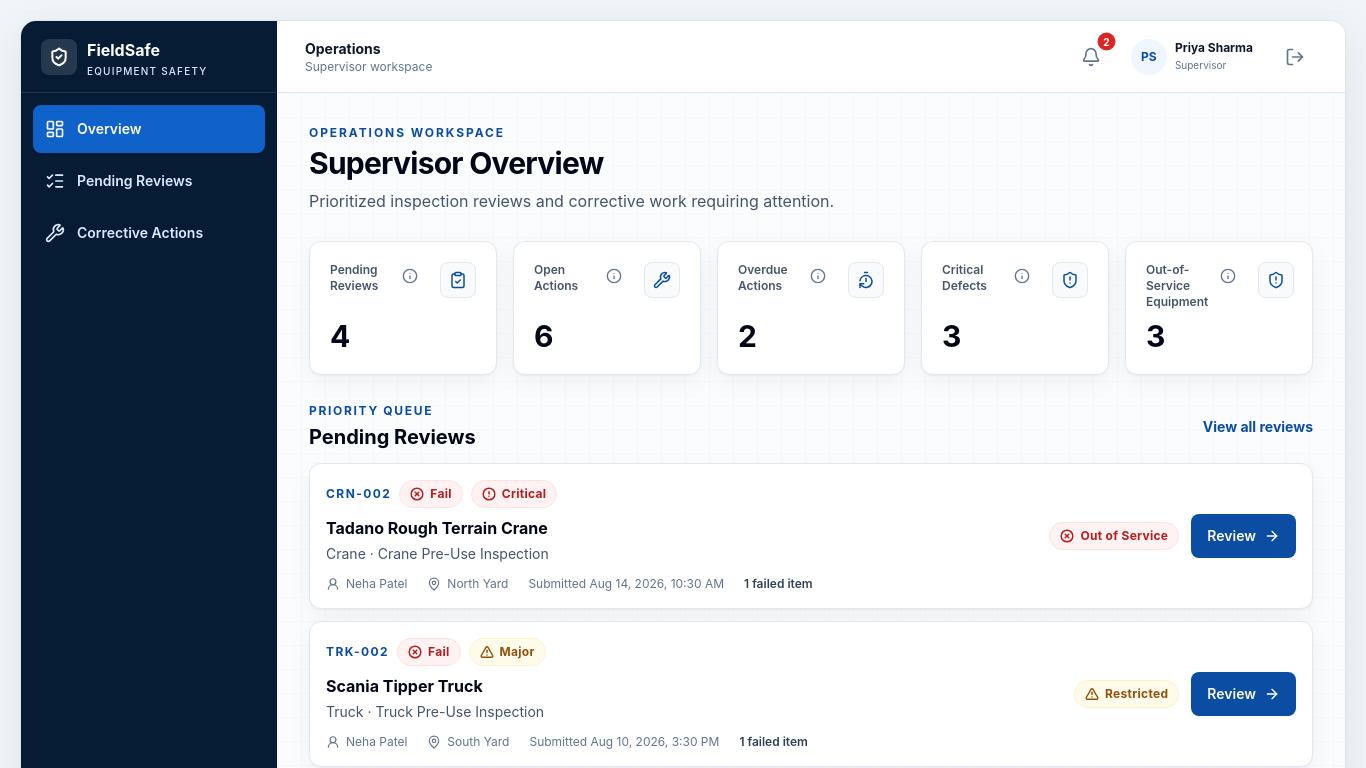
Test case: TASK-031 Supervisor actionable notifications › renders a bounded newest-first Supervisor notification center
The image size is (1366, 768).
Click the button named "Notifications, 2 unread": click(1091, 56) [1071,36,1111,76]
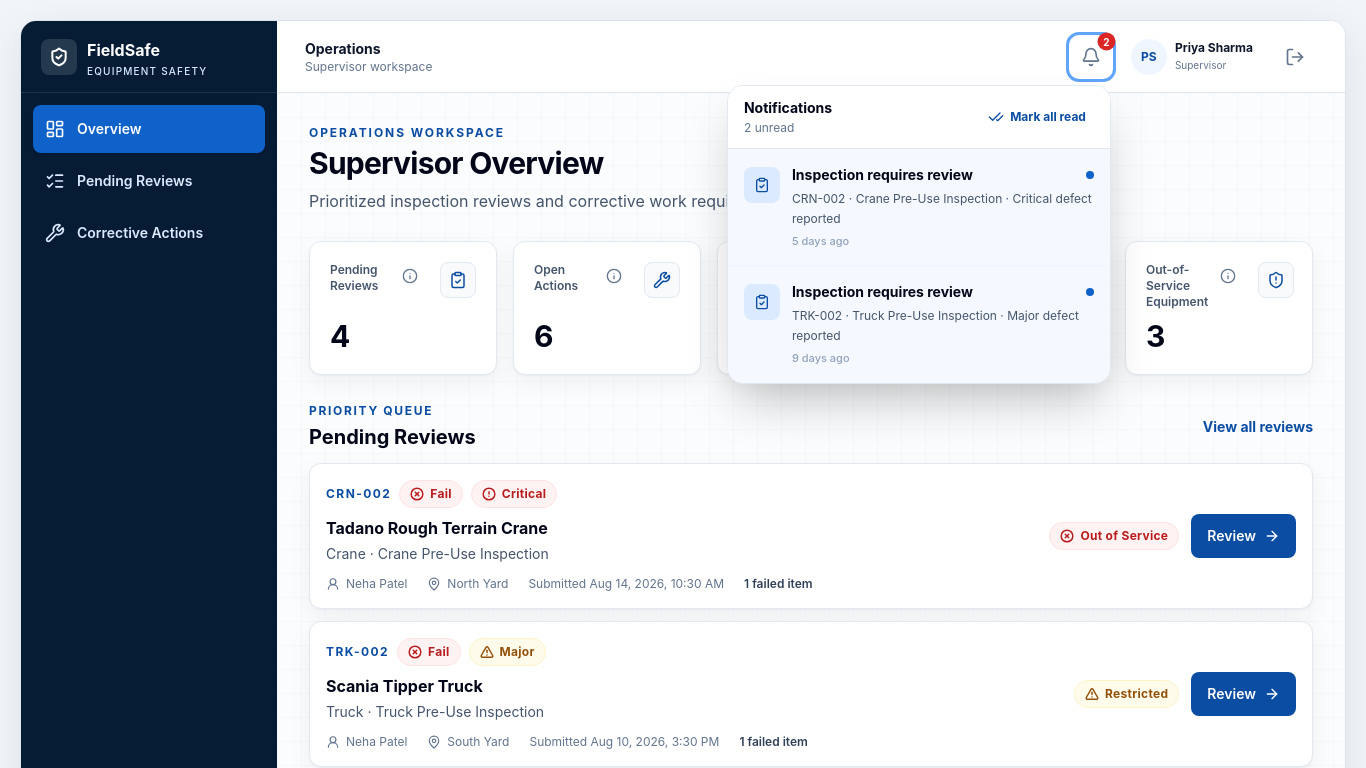
Expected: the number of buttons named "Open Inspection requires review" is 2, [728,148,1110,266]; [728,266,1110,382]
